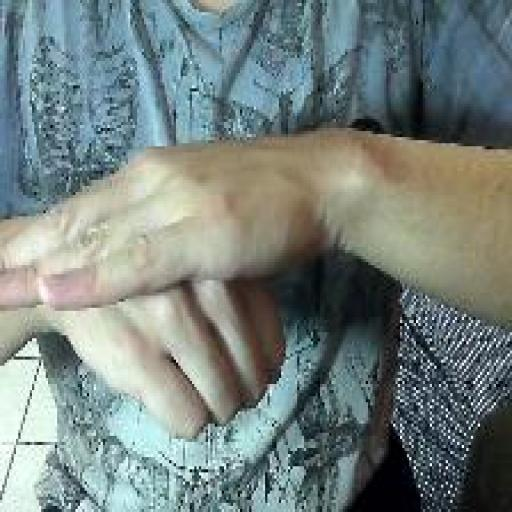Inu -dog-: (0, 141, 290, 443)
